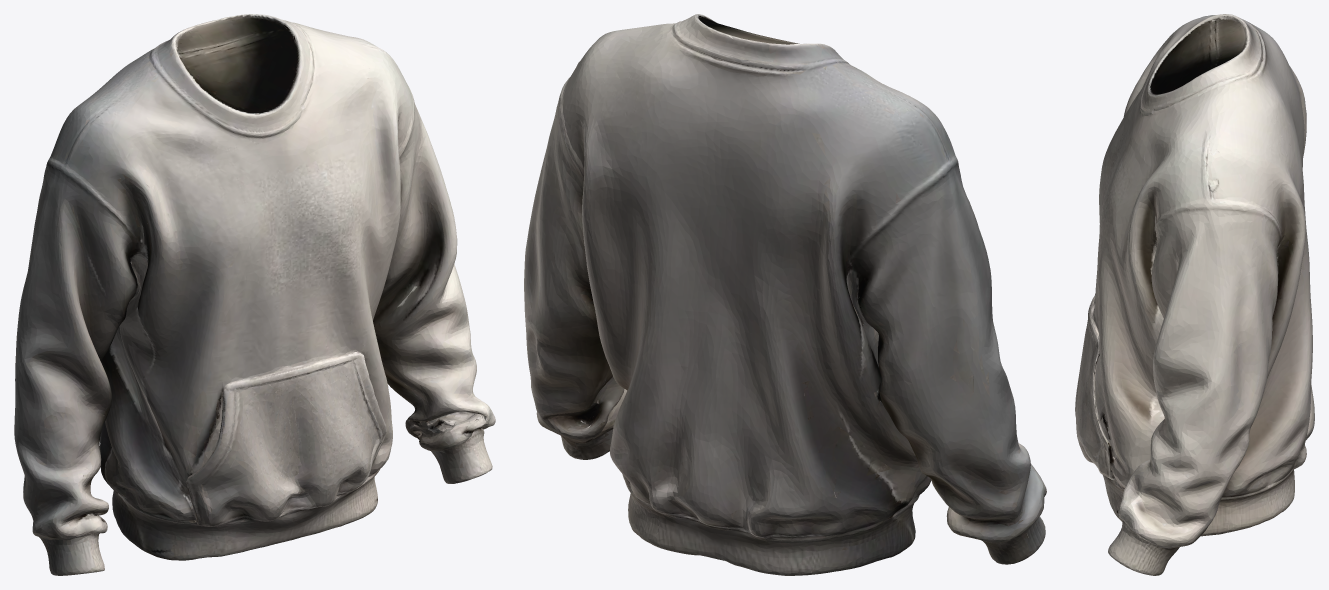
The model's file is hoodie.glb.
3 renders of one model, left to right at view 1: azimuth 30°, elevation 25°; view 2: azimuth 150°, elevation 25°; view 3: azimuth 270°, elevation 25°, orthographic. The views are drawn at different scales.
Parts seen in each view (by area): view 1: world; view 2: world; view 3: world.
Boxes of the visible parts, box(x1,y1,x2,y2) form: world: box(14, 14, 495, 575); world: box(524, 14, 1046, 575); world: box(1075, 14, 1314, 575).
Bounding box in the file's own units: 1.99 × 1.99 × 0.9638.
1 material, 1 textured.
